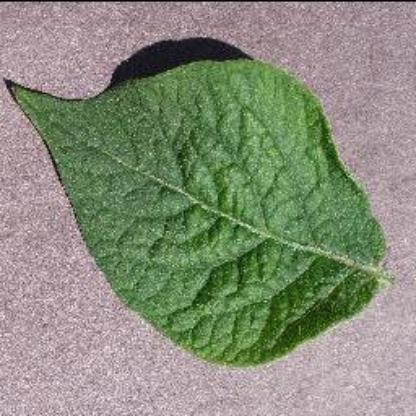Healthy-plant: (10, 52, 400, 368)
